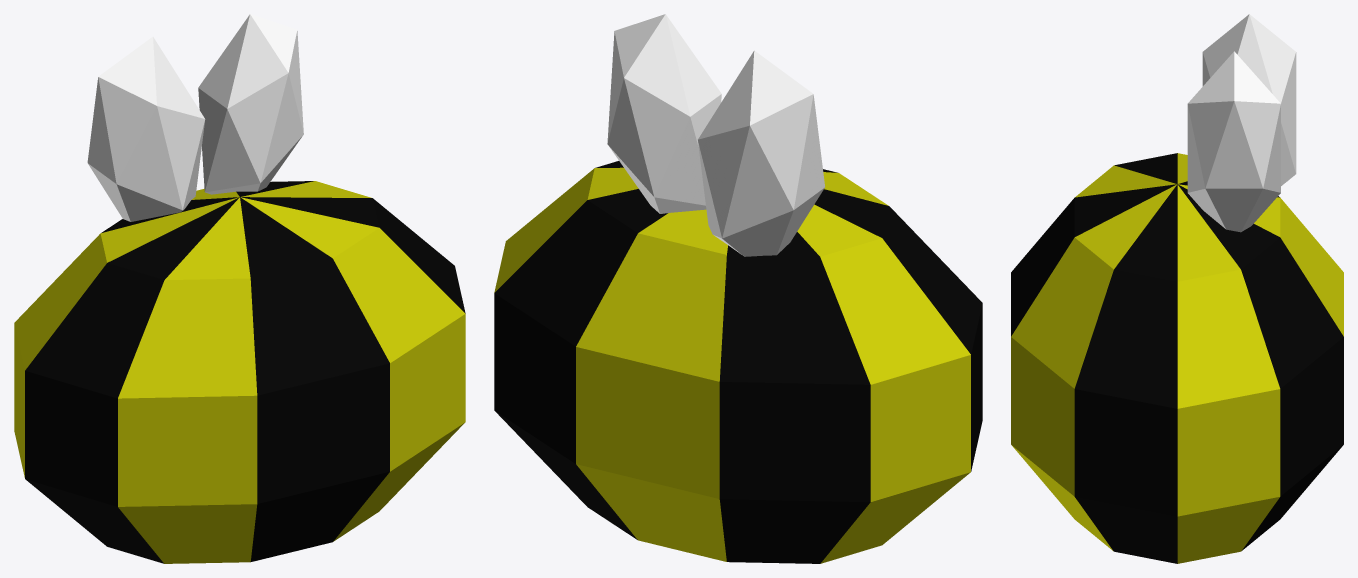
File: bee.fbx
3 renders of one model, left to right at view 1: azimuth 30°, elevation 25°; view 2: azimuth 150°, elevation 25°; view 3: azimuth 270°, elevation 25°, orthographic. The views are drawn at different scales.
Visible parts, largest first — view 1: Sphere, Platonic, Platonic_1; view 2: Sphere, Platonic, Platonic_1; view 3: Sphere, Platonic_1, Platonic.
Part boxes in pixels (bbox=[...]): Sphere: bbox=[14, 181, 465, 563]; Platonic: bbox=[87, 37, 205, 221]; Platonic_1: bbox=[198, 14, 303, 194]; Sphere: bbox=[494, 161, 982, 563]; Platonic: bbox=[698, 50, 824, 256]; Platonic_1: bbox=[607, 14, 721, 213]; Sphere: bbox=[1011, 153, 1343, 563]; Platonic_1: bbox=[1187, 51, 1280, 232]; Platonic: bbox=[1202, 14, 1296, 185].
Size of the model in its own units: 48.3 by 54.06 by 32.59.
